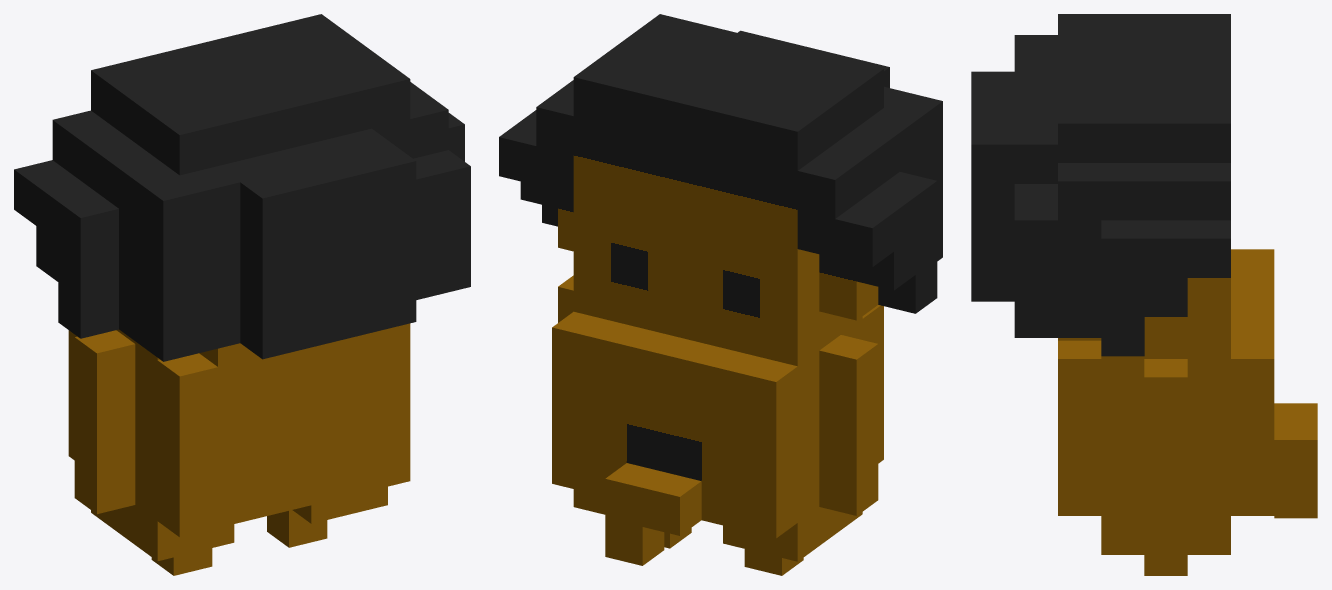
File: chr_naked4.dae
The picture shows the model from 3 angles, left to right: view 1: azimuth 30°, elevation 25°; view 2: azimuth 150°, elevation 25°; view 3: azimuth 270°, elevation 25°; orthographic projection. The views are drawn at different scales.
Visible parts, largest first — view 1: chr_naked4; view 2: chr_naked4; view 3: chr_naked4.
Boxes of the visible parts, x1,y1,x2,y2 form: chr_naked4: (14,14,470,575); chr_naked4: (499,14,942,575); chr_naked4: (971,14,1317,575).
Size of the model in its own units: 1 by 0.8 by 1.2.
